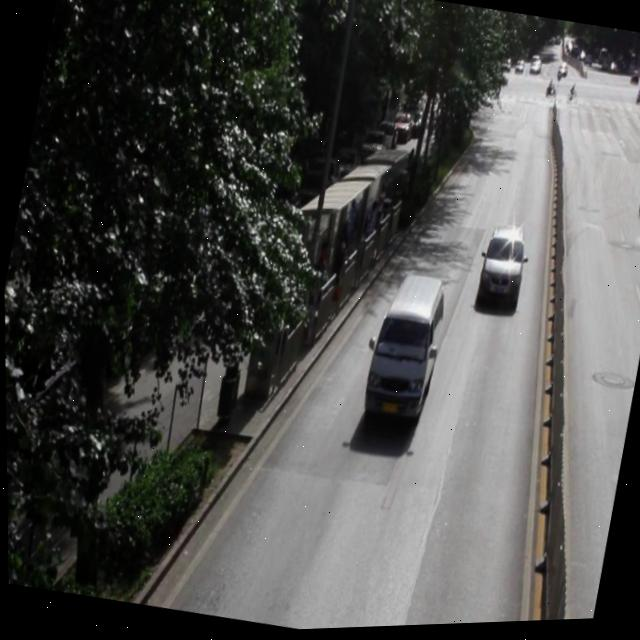car: (472, 225, 529, 311), (633, 179, 640, 231)
truck: (357, 270, 450, 425)
